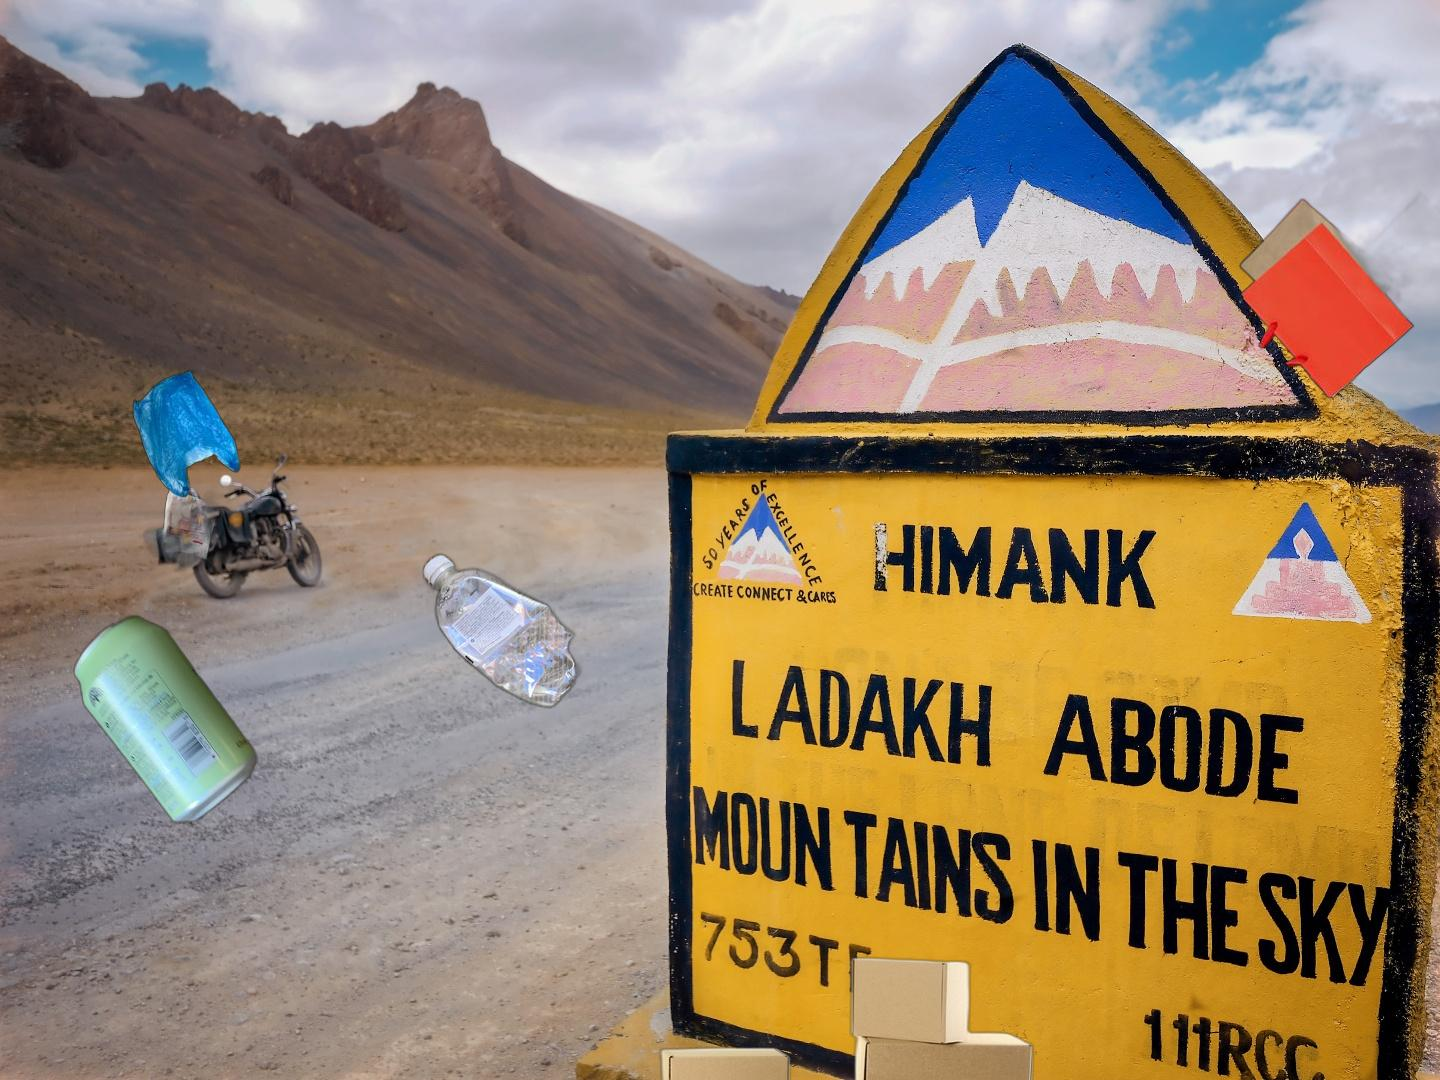metal-cans: (69, 609, 262, 830)
paper-bag: (1238, 118, 1440, 400)
plastic-bag: (130, 368, 259, 604)
plastic-bottles: (418, 548, 585, 712)
trashbox-cardboard: (427, 954, 1101, 1080)
